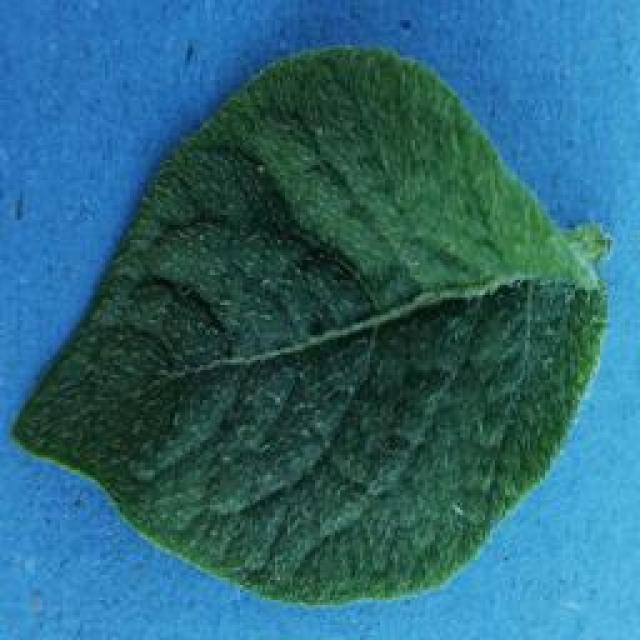Potato_Healthy: (11, 43, 606, 604)
